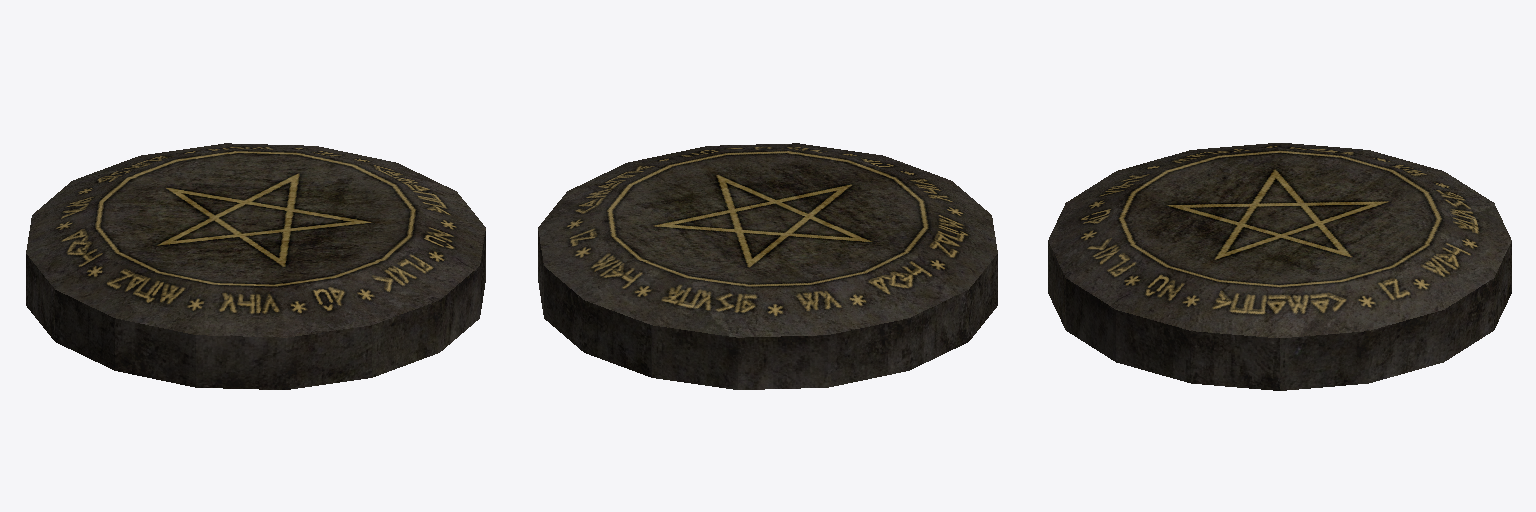
3 renders of one model, left to right at view 1: azimuth 30°, elevation 25°; view 2: azimuth 150°, elevation 25°; view 3: azimuth 270°, elevation 25°, orthographic.
Parts seen in each view (by area): view 1: Default; view 2: Default; view 3: Default.
Boxes of the visible parts, x1,y1,x2,y2 form: Default: [26, 143, 485, 389]; Default: [538, 143, 997, 389]; Default: [1048, 143, 1511, 390].
Size of the model in its own units: 2 by 0.3526 by 2.
Materials: 1 (1 with a texture image).